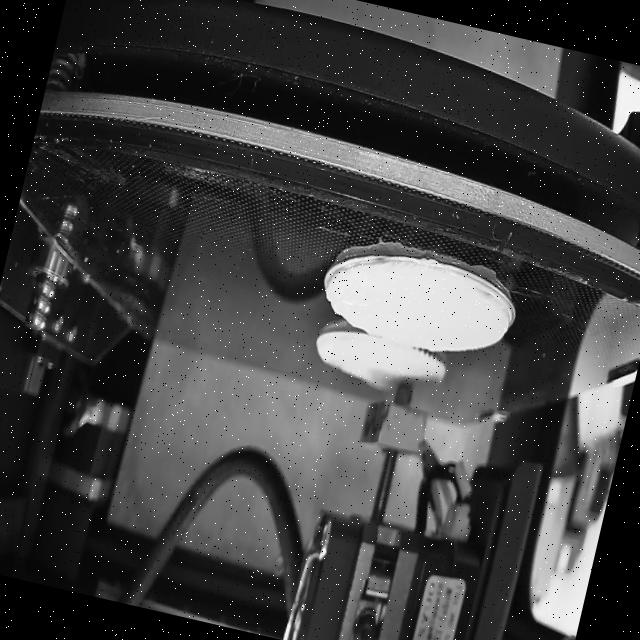over_extrusion: (320, 260, 345, 304)
